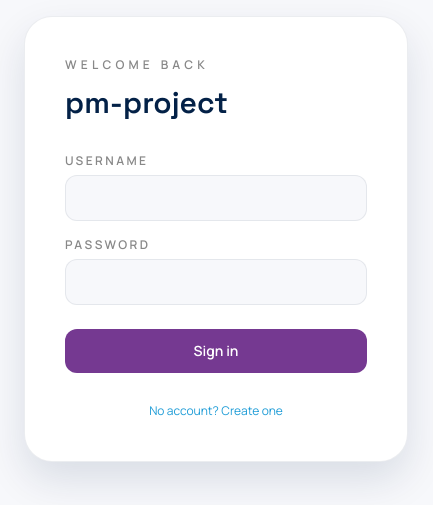
Test case: LoginPage › switches back to login mode from register mode
The width and height of the screenshot is (433, 505).
Click the button "No account? Create one": (216, 411) [149,403,283,419]
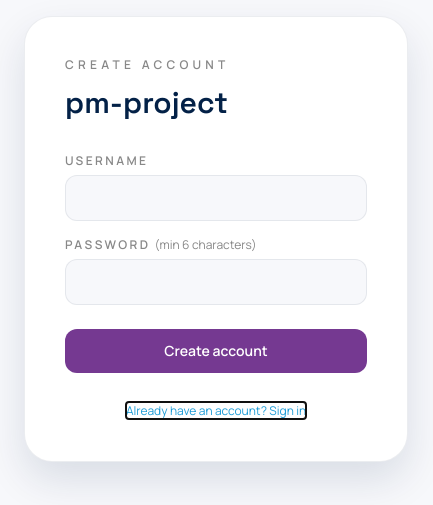
Click the button "Already have an account? Sign in": (216, 411) [126,403,306,419]
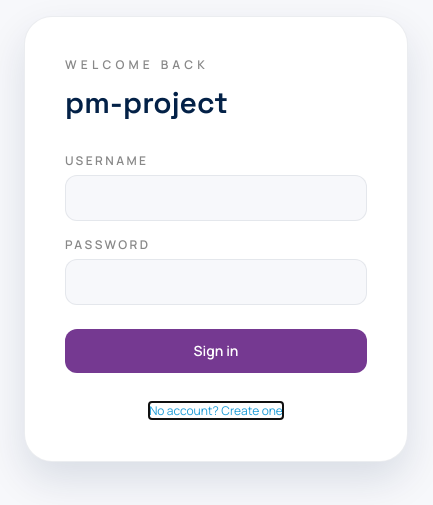
Expected: the button "Sign in" is shown, [65,329,367,373]
